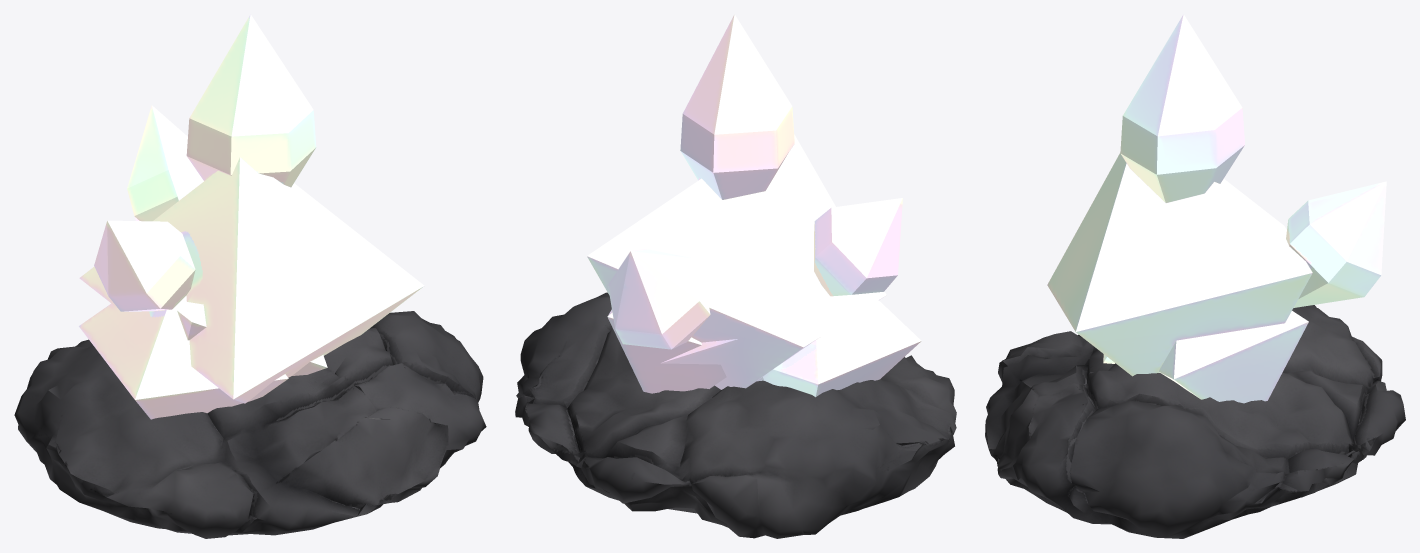
Rendered from diamante_bruto.fbx.
The picture shows the model from 3 angles, left to right: view 1: azimuth 30°, elevation 25°; view 2: azimuth 150°, elevation 25°; view 3: azimuth 270°, elevation 25°; orthographic projection.
Parts seen in each view (by area): view 1: diamante_bruto_cristal, diamante_bruto; view 2: diamante_bruto_cristal, diamante_bruto; view 3: diamante_bruto_cristal, diamante_bruto.
Boxes of the visible parts, <box> form: diamante_bruto_cristal: <box>79,14,424,419</box>; diamante_bruto: <box>14,311,486,538</box>; diamante_bruto_cristal: <box>587,14,921,397</box>; diamante_bruto: <box>515,292,956,538</box>; diamante_bruto_cristal: <box>1047,14,1386,403</box>; diamante_bruto: <box>985,305,1405,538</box>.
Bounding box in the file's own units: 2.75 × 2.86 × 2.45.
Materials: 2 (2 with a texture image).
